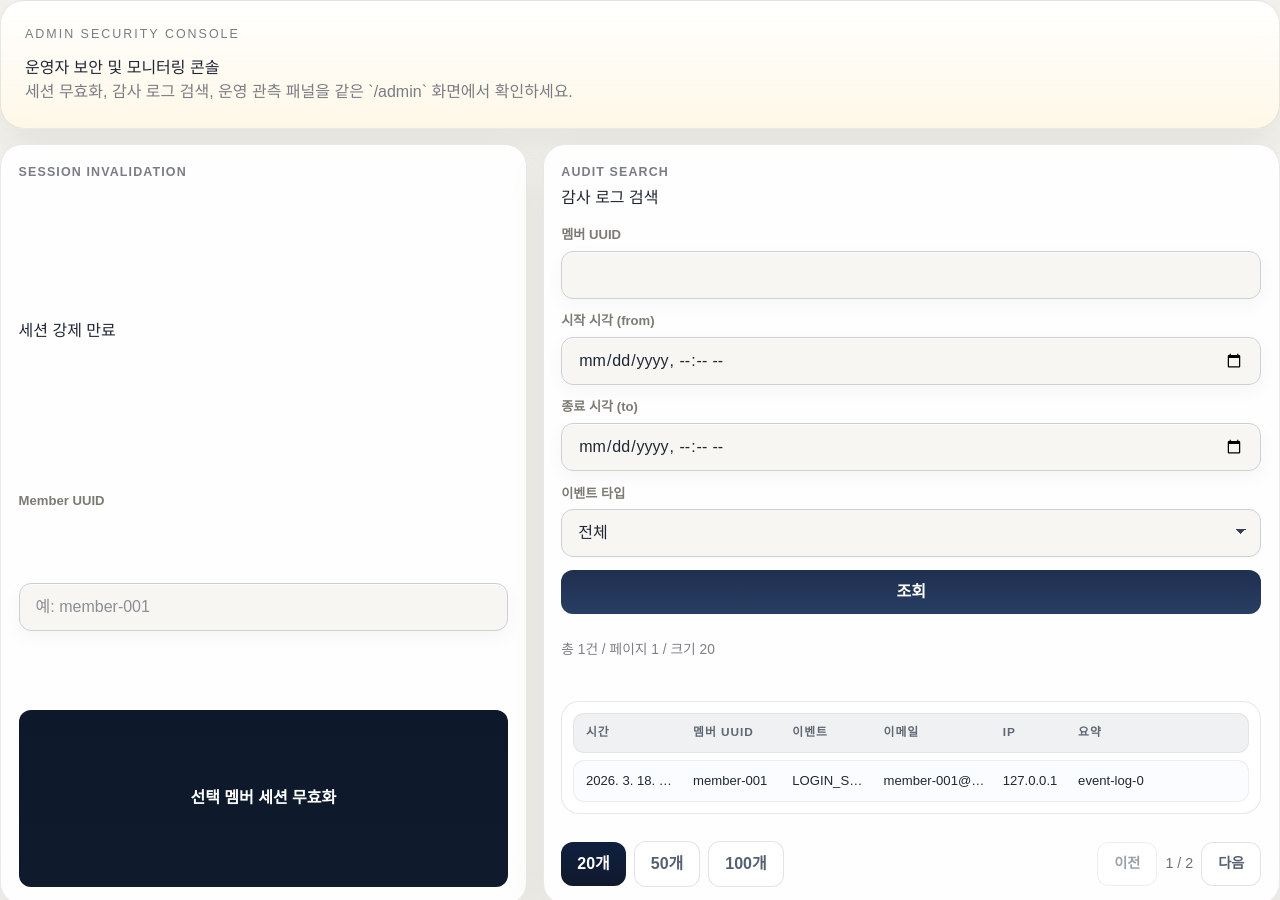
Scenario: AdminConsolePage › keeps the requested page even when API returns a different page number
Expected: the element with test id "admin-audit-row-log-0" is shown, [573,760,1249,802]
Click the button with test id "admin-audit-next".
click(1231, 864)  # box [1201,842,1261,886]
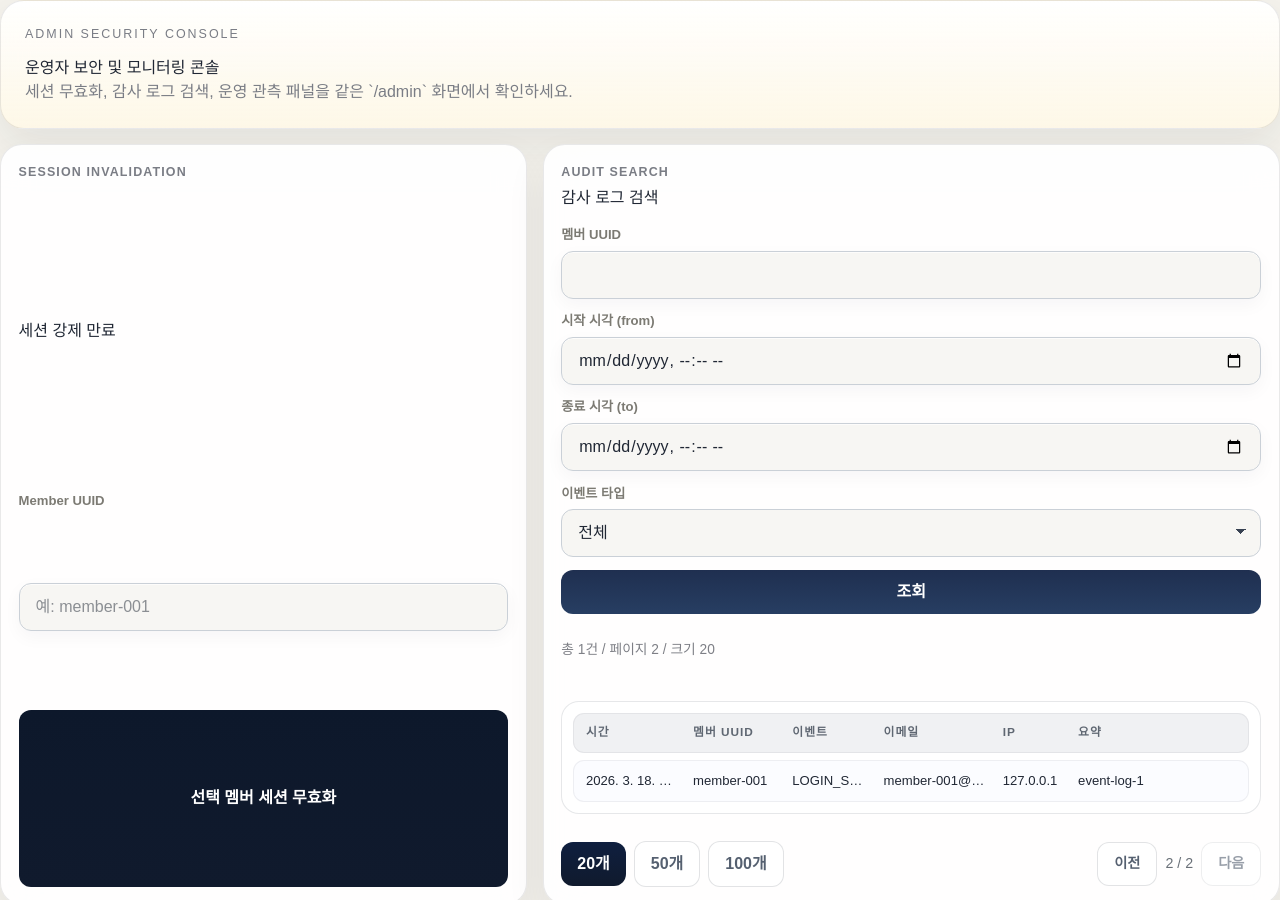
Expected: the element with test id "admin-audit-row-log-1" is shown, [573,760,1249,802]
Expected: the text with test id "admin-audit-page-indicator" reads "2 / 2", [1166,853,1193,875]
